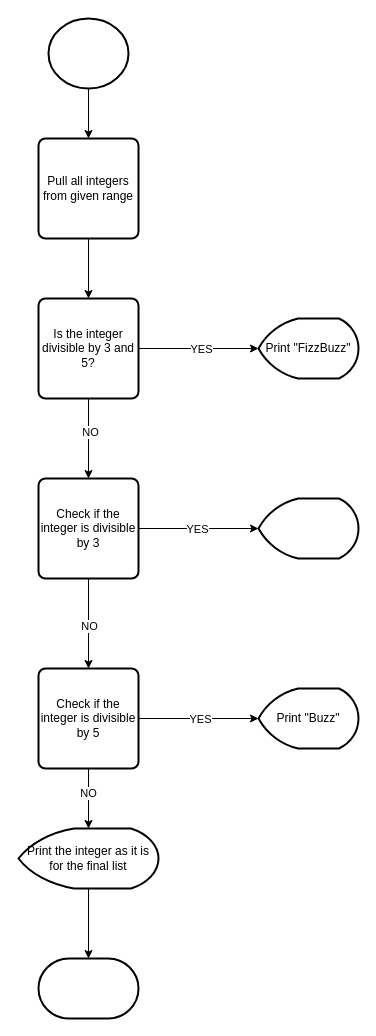
The diagram is 376 pixels wide and 1036 high, and some of its shapes have lost their labels. Here are the shapes that lost their labels. From the top down, the box of each, then its label:
(47, 17, 129, 89): Start Script
(257, 497, 359, 559): Print "Fizz"
(37, 957, 139, 1019): End Script
